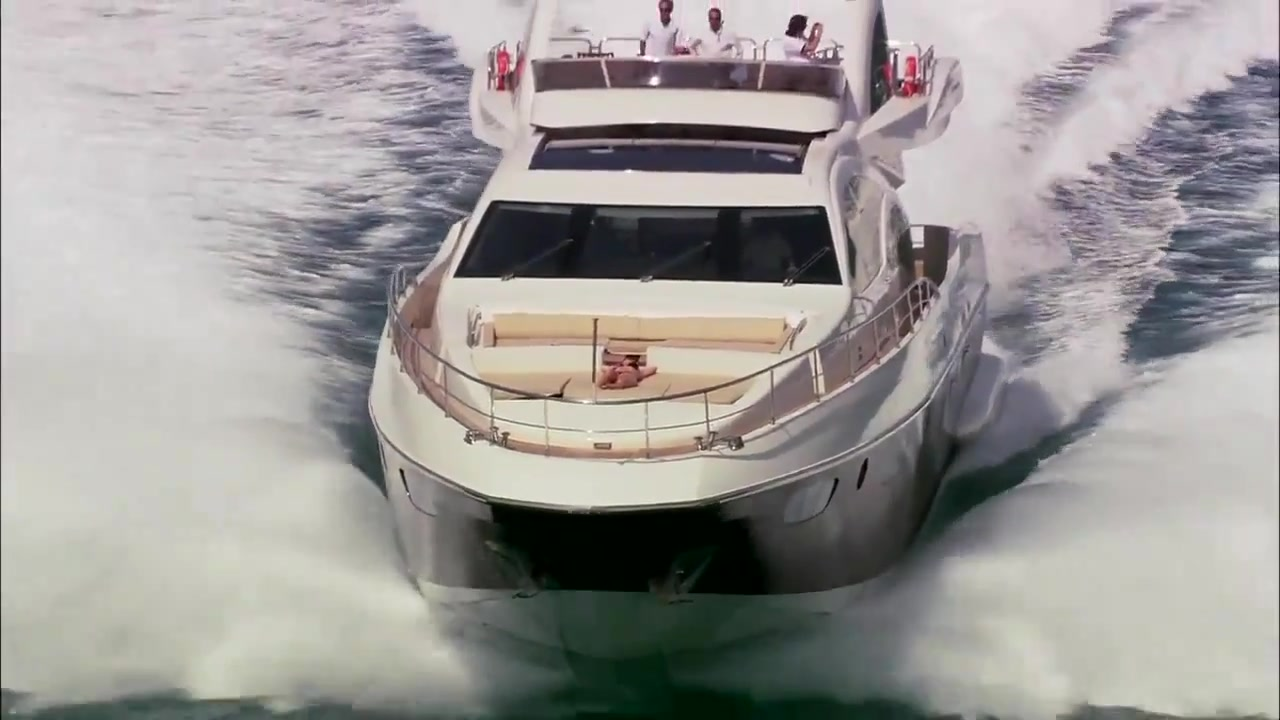boat: (365, 2, 999, 668)
